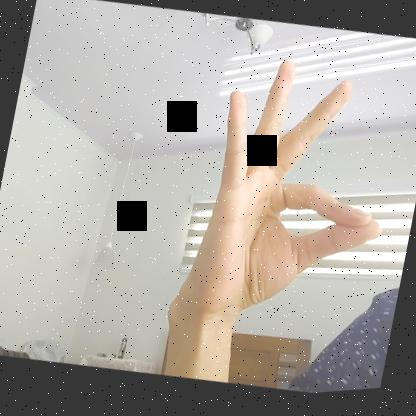F: (172, 43, 414, 346)
